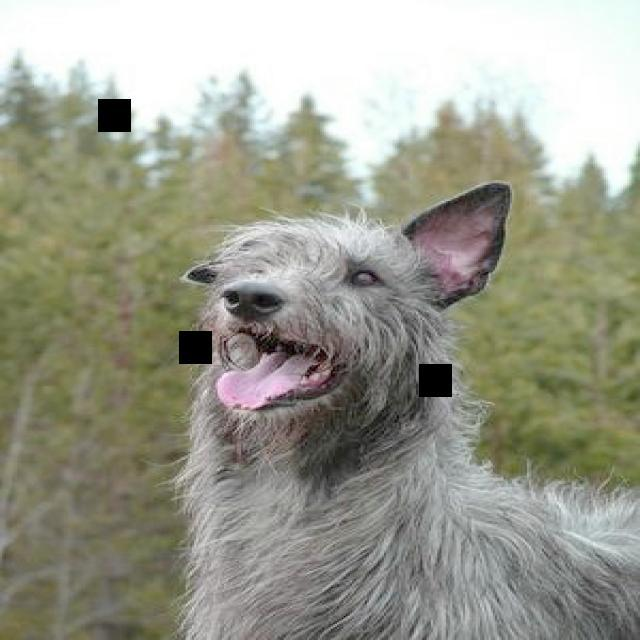adult_dog: (173, 179, 640, 640)
